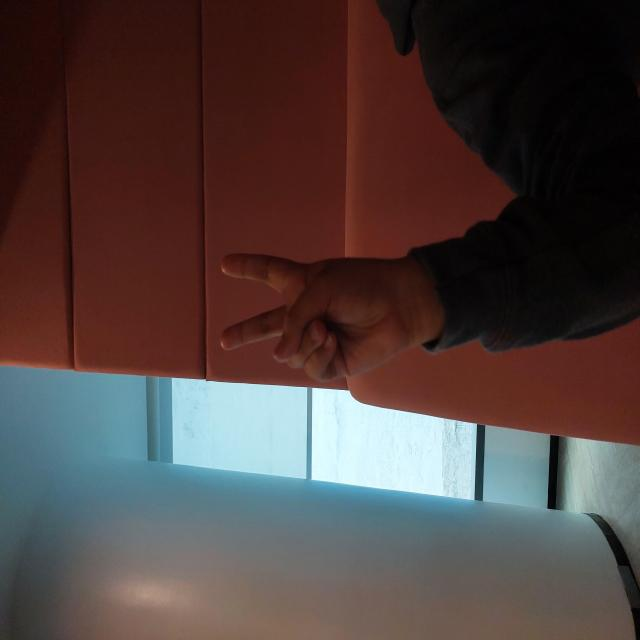V: (253, 212, 397, 422)
